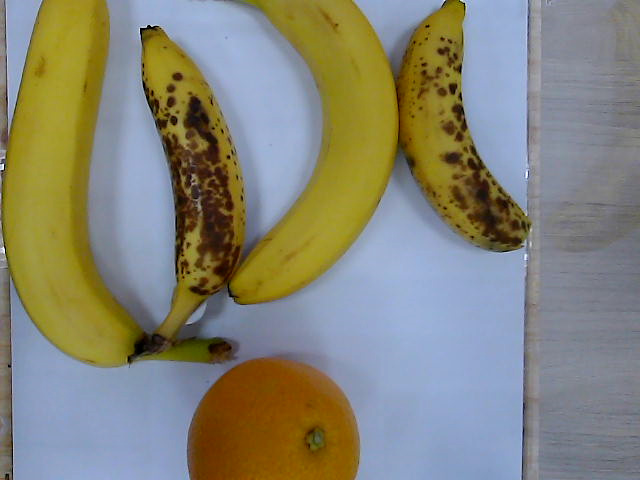fresh_banana: (5, 1, 238, 367), (228, 1, 400, 303)
fresh_orange: (187, 358, 362, 480)
rotten_banana: (397, 1, 536, 257), (141, 23, 246, 351)
